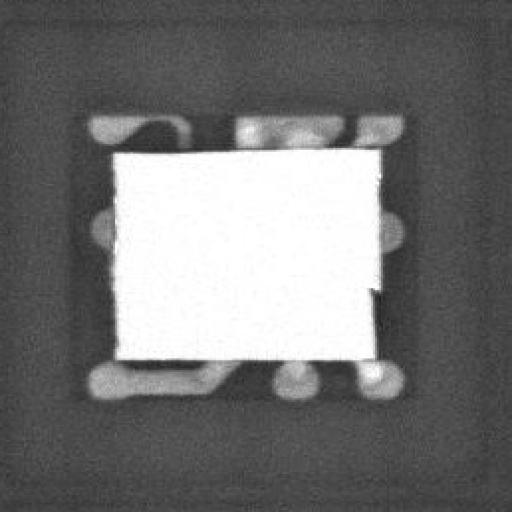DIE_BROKEN: (363, 282, 379, 358)
